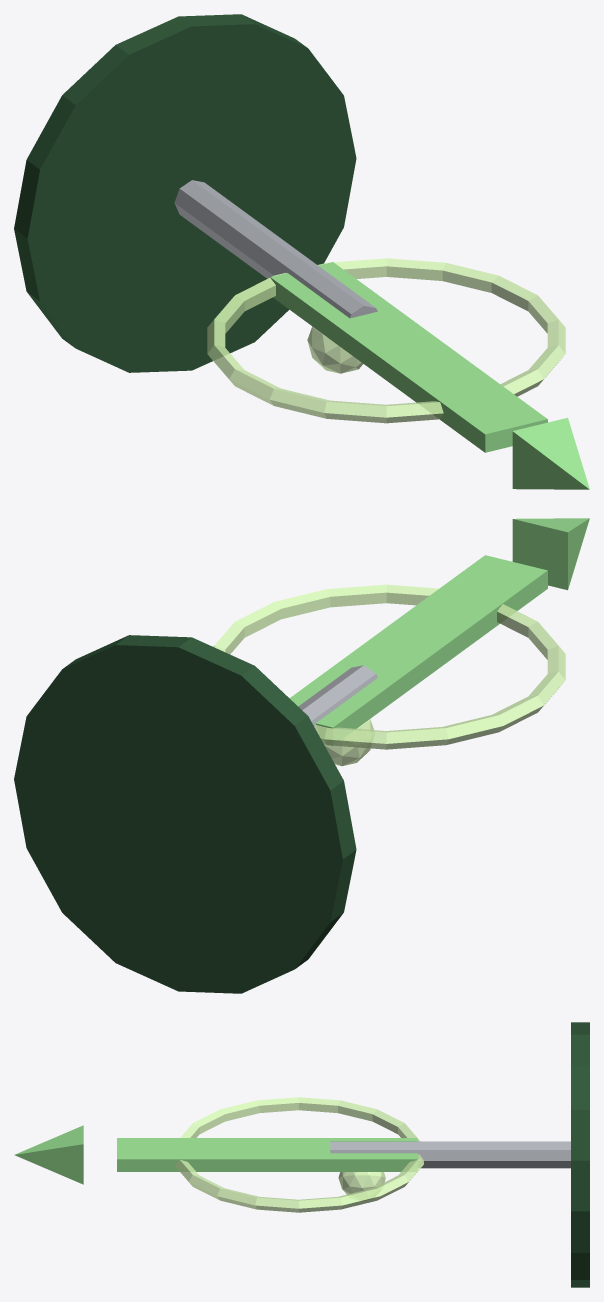
The model's file is 04_high_tier_magic_weapon_aura.glb.
3 renders of one model, top to bottom at view 1: azimuth 30°, elevation 25°; view 2: azimuth 150°, elevation 25°; view 3: azimuth 270°, elevation 25°, orthographic. The views are drawn at different scales.
Parts seen in each view (by area): view 1: weapon_display_base, magic_blade_core, weapon_enchant_orbit, weapon_grip, magic_blade_tip, weapon_gem; view 2: weapon_display_base, magic_blade_core, weapon_enchant_orbit, magic_blade_tip, weapon_grip, weapon_gem; view 3: magic_blade_core, weapon_enchant_orbit, weapon_grip, weapon_display_base, magic_blade_tip, weapon_gem.
Part boxes in pixels (x1=…): weapon_display_base: x1=14, y1=14, x2=356, y2=372; magic_blade_core: x1=270, y1=262, x2=547, y2=452; weapon_enchant_orbit: x1=207, y1=258, x2=565, y2=423; weapon_grip: x1=174, y1=180, x2=377, y2=318; magic_blade_tip: x1=512, y1=417, x2=589, y2=489; weapon_gem: x1=307, y1=326, x2=363, y2=373; weapon_display_base: x1=14, y1=635, x2=356, y2=993; magic_blade_core: x1=289, y1=555, x2=547, y2=745; weapon_enchant_orbit: x1=213, y1=584, x2=565, y2=749; magic_blade_tip: x1=512, y1=518, x2=589, y2=590; weapon_grip: x1=298, y1=665, x2=377, y2=733; weapon_gem: x1=324, y1=719, x2=373, y2=766; magic_blade_core: x1=117, y1=1138, x2=417, y2=1171; weapon_enchant_orbit: x1=175, y1=1097, x2=423, y2=1212; weapon_grip: x1=330, y1=1141, x2=570, y2=1168; weapon_display_base: x1=571, y1=1022, x2=589, y2=1287; magic_blade_tip: x1=14, y1=1125, x2=83, y2=1184; weapon_gem: x1=338, y1=1172, x2=385, y2=1194.
Size of the model in its own units: 0.84 by 0.84 by 1.82.
